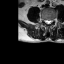CCS_stenosis: (47, 17, 49, 26)
LFS_normal: (51, 16, 53, 23)
LLS_normal: (49, 17, 51, 25)
RFS_normal: (43, 16, 45, 24)
RLS_normal: (45, 17, 47, 25)
